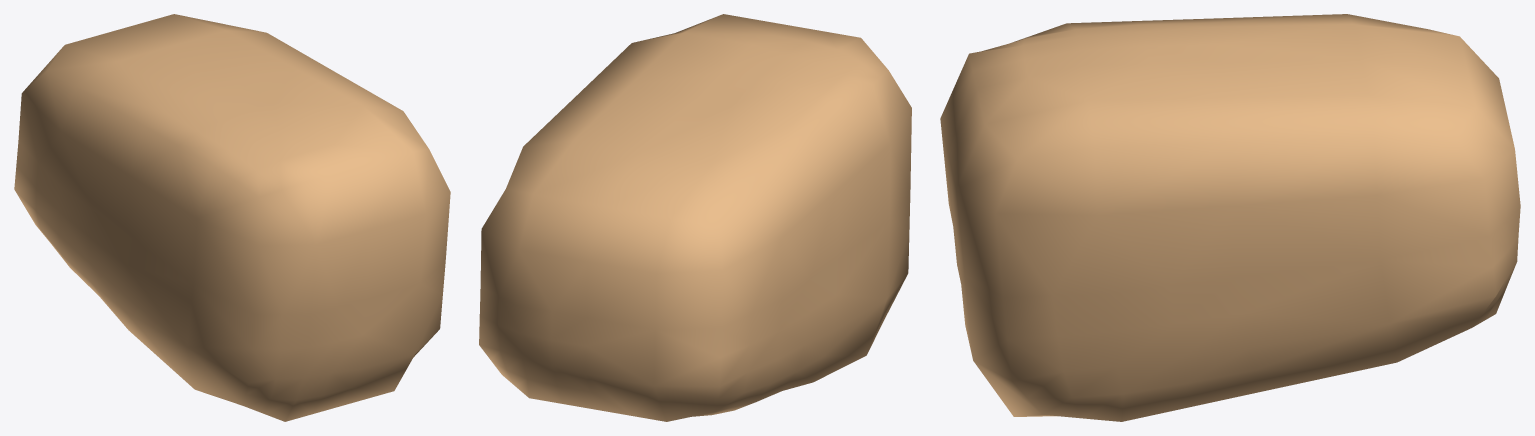
The model's file is index_01_l.dae.
3 renders of one model, left to right at view 1: azimuth 30°, elevation 25°; view 2: azimuth 150°, elevation 25°; view 3: azimuth 270°, elevation 25°, orthographic. The views are drawn at different scales.
Visible parts, largest first — view 1: skin_geo_index_01_r; view 2: skin_geo_index_01_r; view 3: skin_geo_index_01_r.
Boxes of the visible parts, x1,y1,x2,y2 form: skin_geo_index_01_r: [14, 14, 450, 421]; skin_geo_index_01_r: [479, 14, 911, 421]; skin_geo_index_01_r: [940, 14, 1520, 421].
Bounding box in the file's own units: 0.0241 × 0.0398 × 0.0242.
